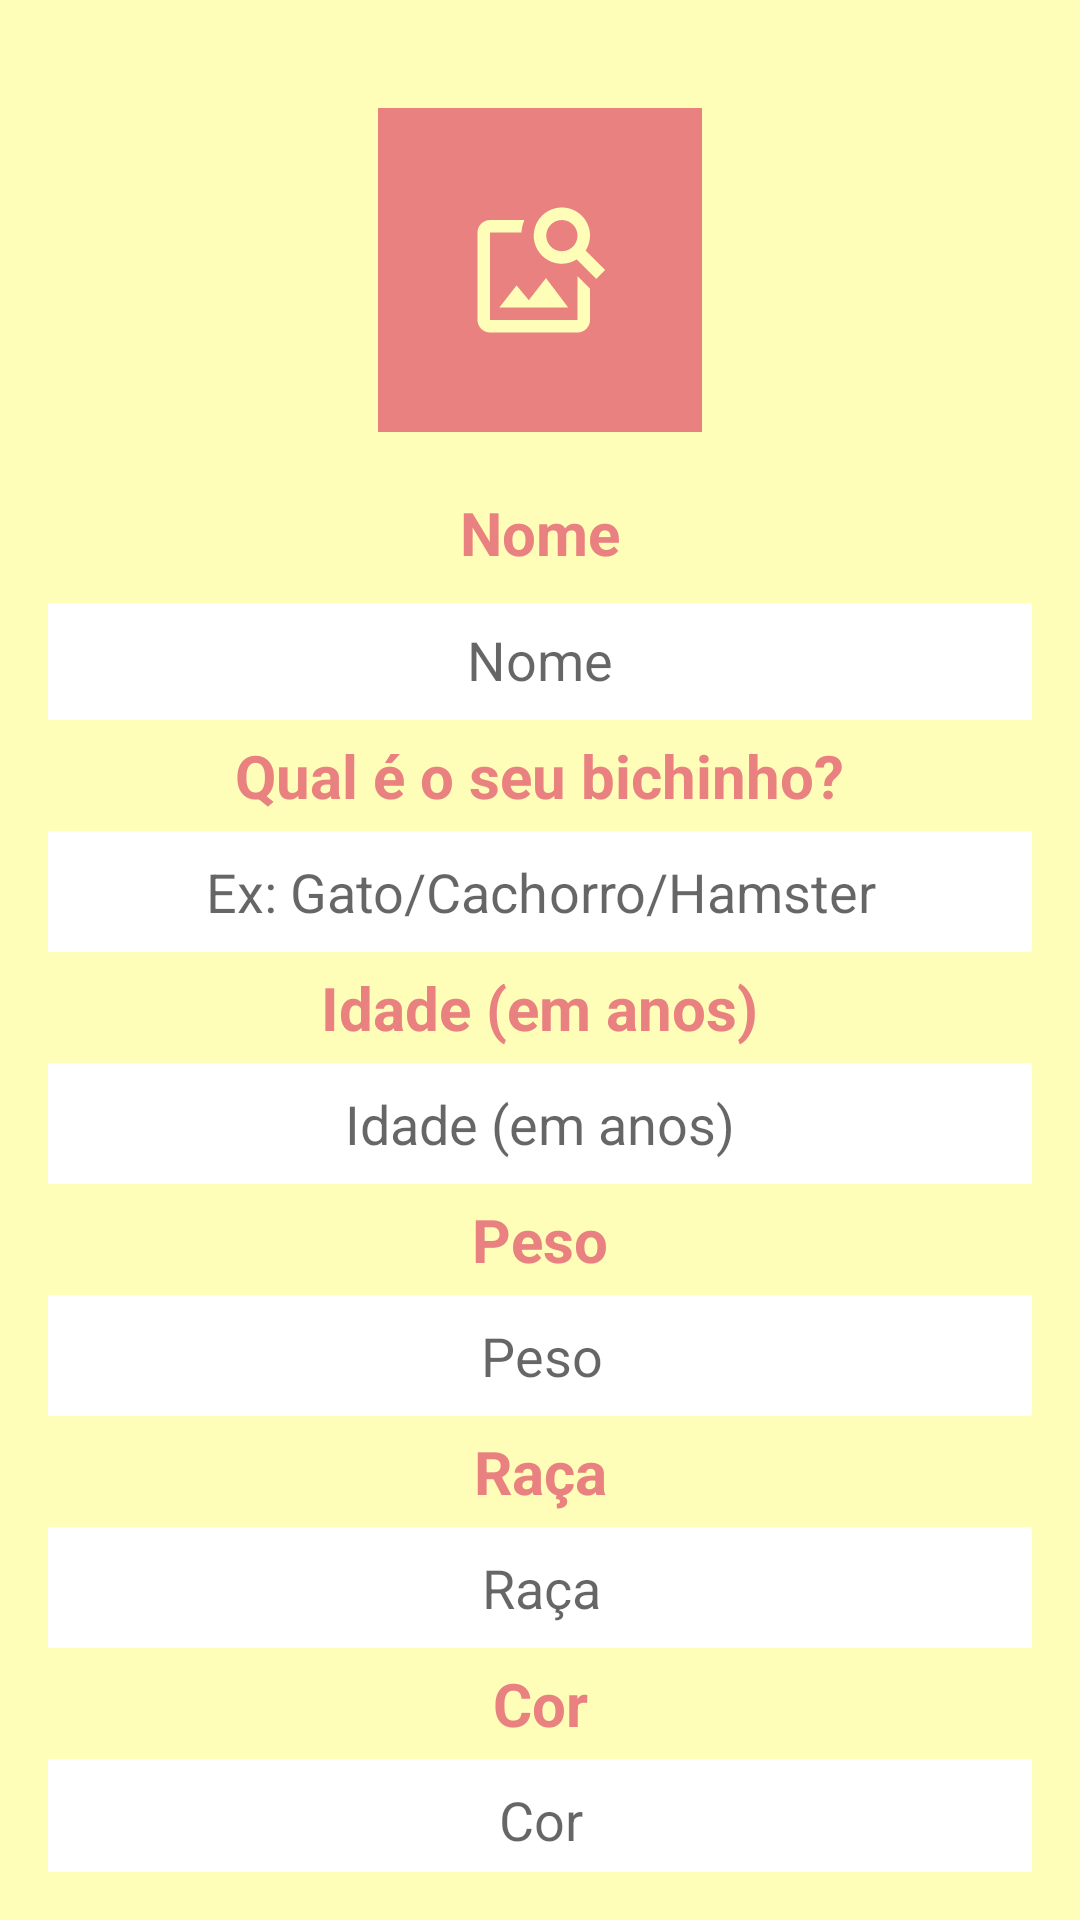

Icons on this 1080x1920 Android screen, each with its box as {"left": x1, "top": y1, "right": x2, "bottom": y2}:
search: {"left": 378, "top": 108, "right": 702, "bottom": 432}
